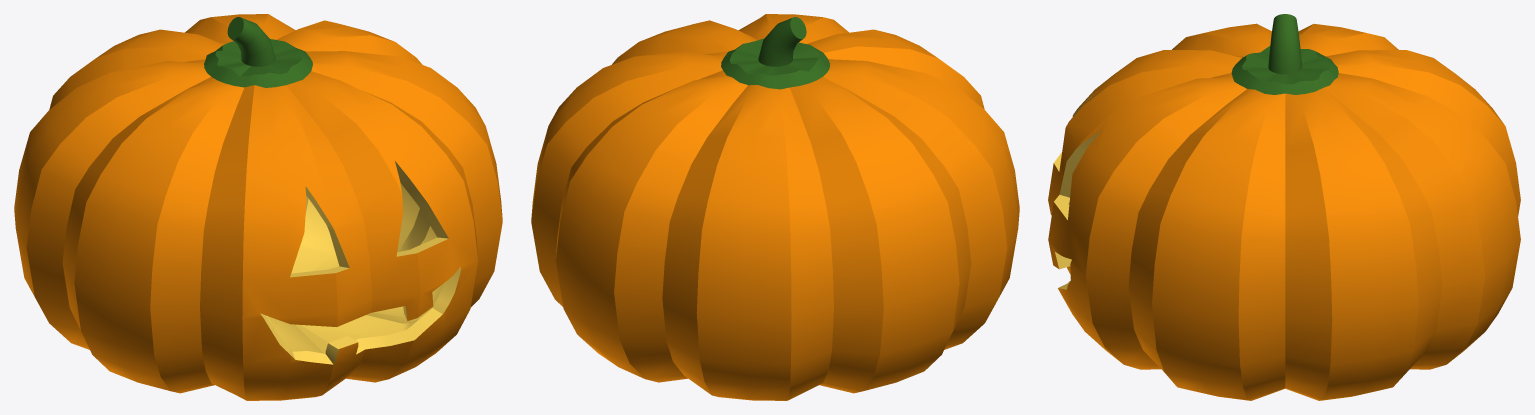
File: jack_o_lantern.fbx
3 views of the same model, side by side, from view 1: azimuth 30°, elevation 25°; view 2: azimuth 150°, elevation 25°; view 3: azimuth 270°, elevation 25° (orthographic).
Parts seen in each view (by area): view 1: Circle.1781; view 2: Circle.1781; view 3: Circle.1781.
Part boxes in pixels (box(x1,y1,x2,y2)): Circle.1781: box(14, 14, 502, 400); Circle.1781: box(531, 14, 1019, 400); Circle.1781: box(1048, 14, 1520, 400).
Size of the model in its own units: 231 by 168 by 232.
Materials: 1 (1 with a texture image).
